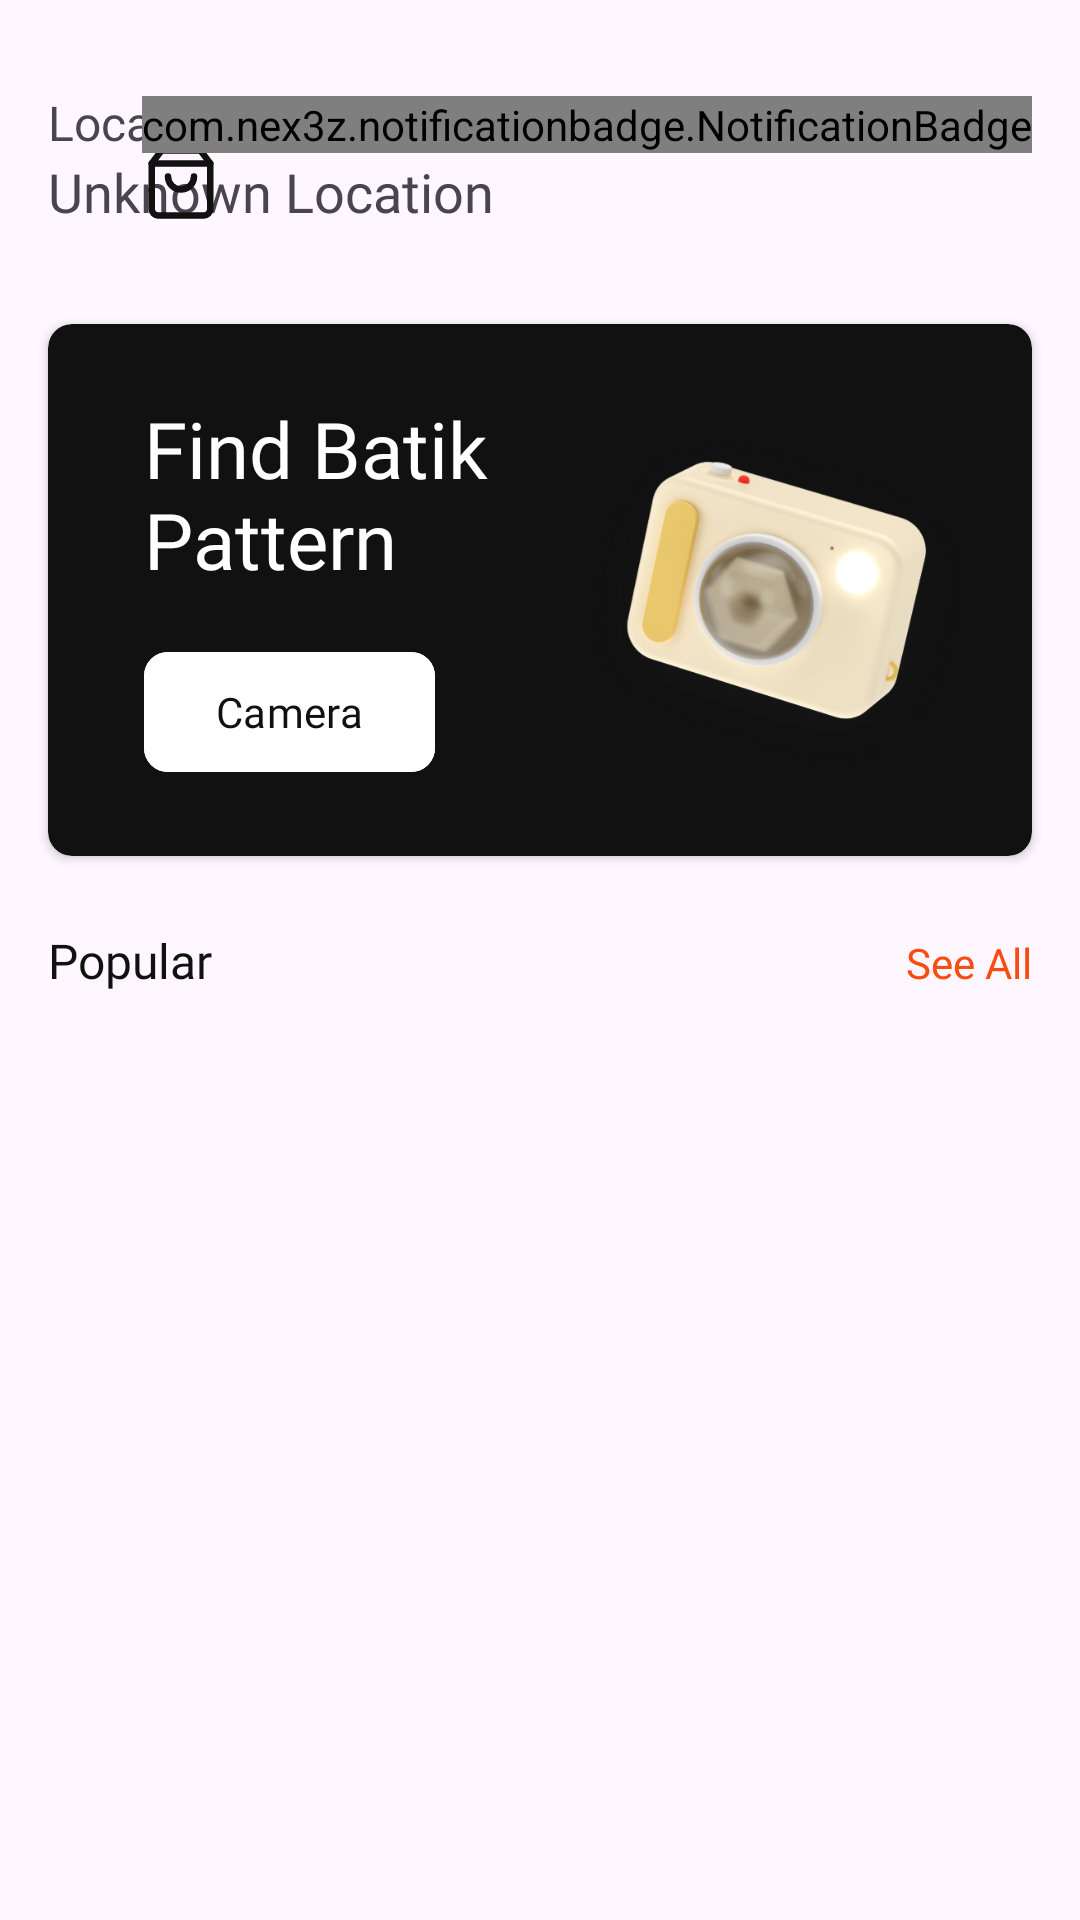

Screen size 1080x1920. Icon name, then its center in pixels as (x,y):
shopping bag: (181,181)
